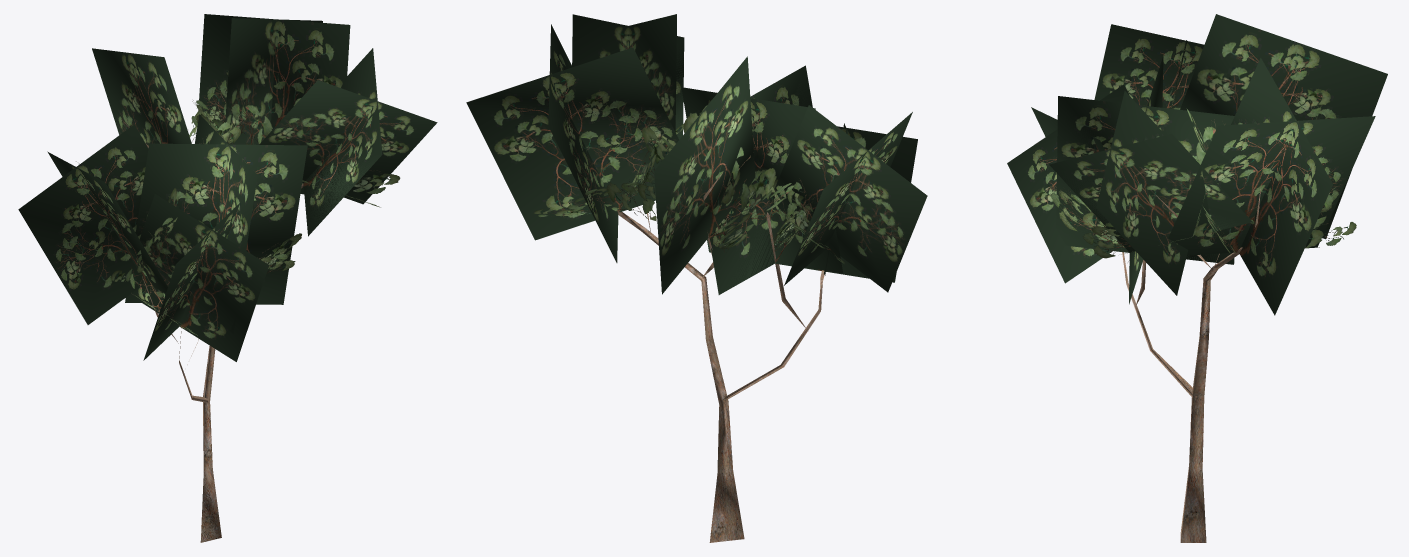
Rendered from decd_ginkgotreeleaves_l1.fbx.
The picture shows the model from 3 angles, left to right: view 1: azimuth 30°, elevation 25°; view 2: azimuth 150°, elevation 25°; view 3: azimuth 270°, elevation 25°; orthographic projection. The views are drawn at different scales.
Parts seen in each view (by area): view 1: mesh_node; view 2: mesh_node; view 3: mesh_node.
Part boxes in pixels (x1,y1,x2,y2): mesh_node: (18,14,437,542); mesh_node: (466,14,927,542); mesh_node: (1007,14,1387,542).
Size of the model in its own units: 3.19 by 3.66 by 2.63.
